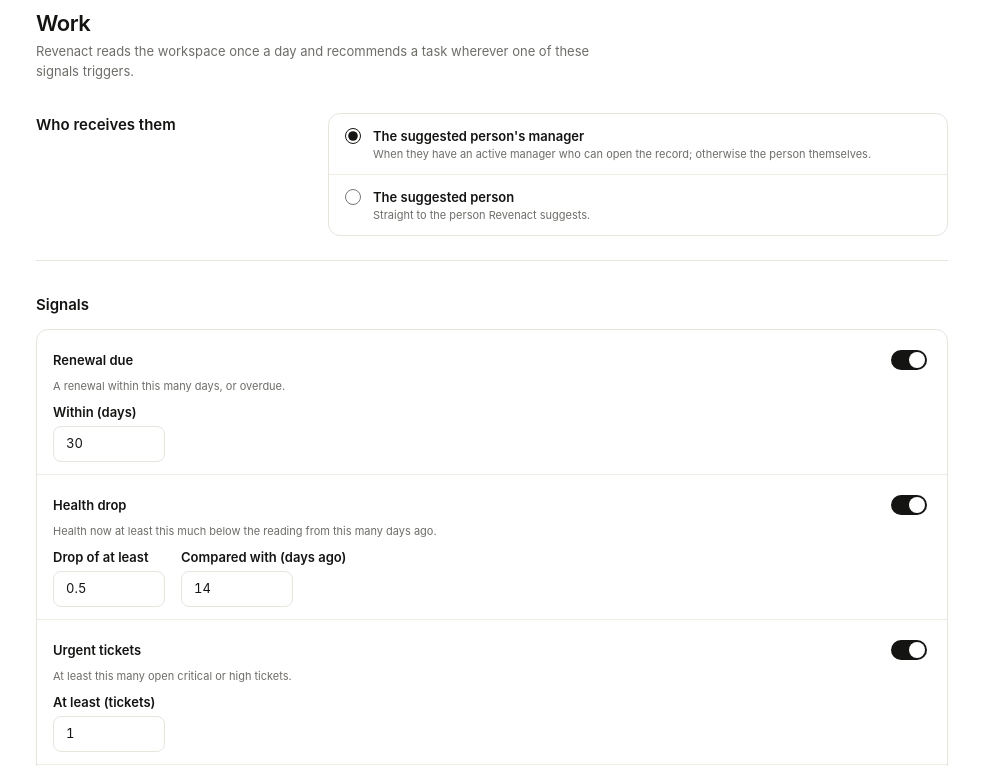
Test: Settings › Work › Recommendations (spec §2.4; Decisions 10 to 12) › collects thresholds and the cooldown in the save bar, sending only what changed
Replace the text in the field labelled "Within (days)" with "45" at (109, 444), box [53,426,165,462]
(page scrolled)
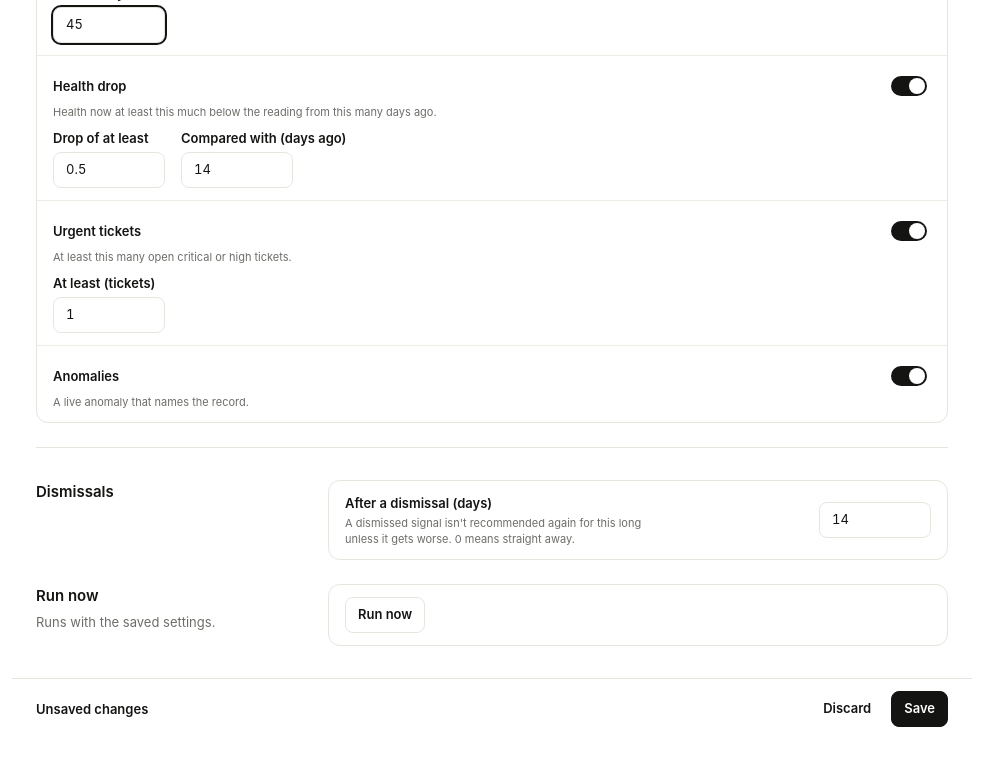
Replace the text in the field labelled "After a dismissal (days)" with "7" at (875, 520), box [819,502,931,538]
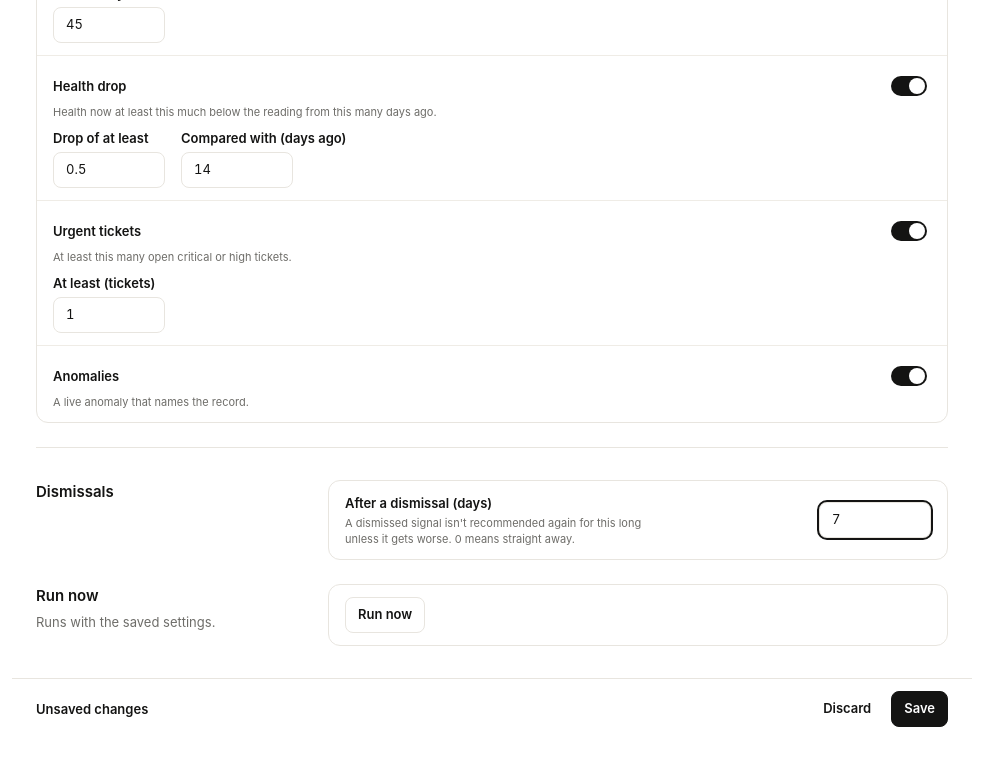
Expected: the text "Unsaved changes" is shown, [36,699,148,719]
Click the button "Save" at (920, 709), box [891,691,948,727]
(page scrolled)
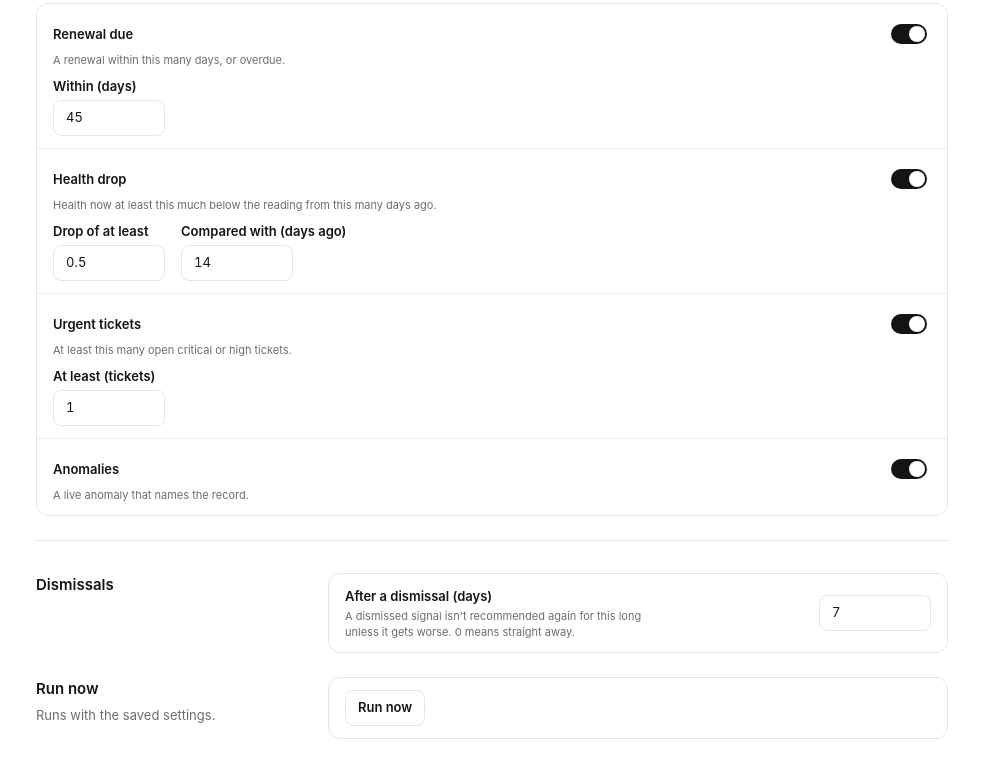
Expected: the text "Unsaved changes" is gone
